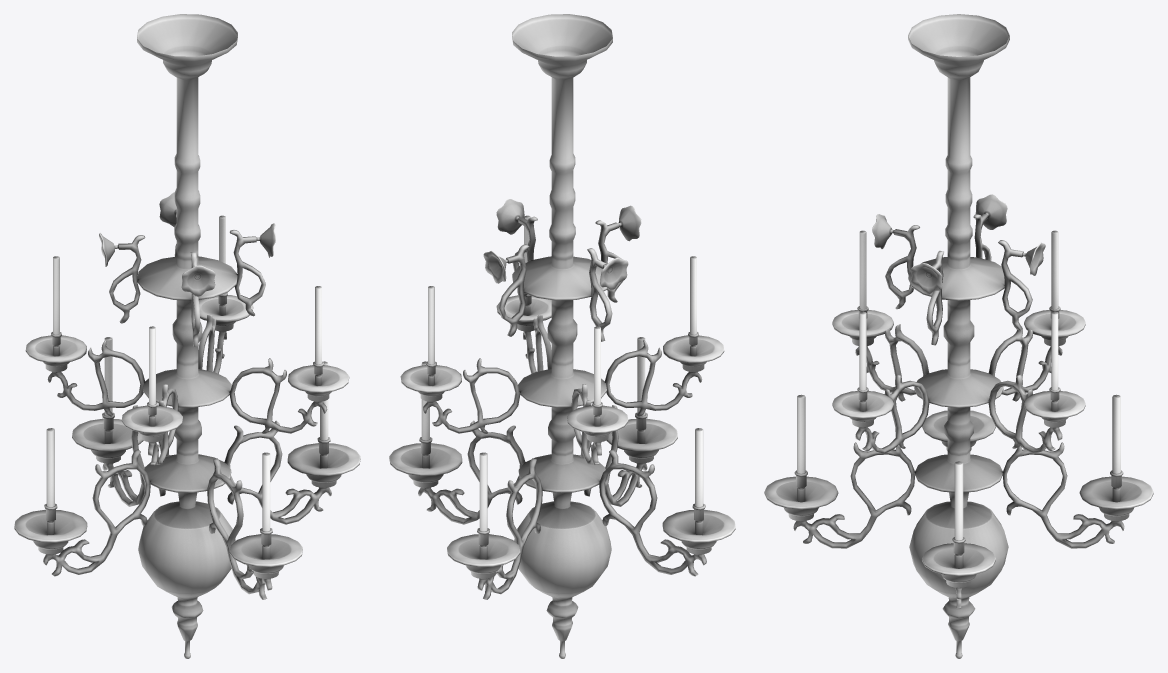
File: chandelier.fbx
3 renders of one model, left to right at view 1: azimuth 30°, elevation 25°; view 2: azimuth 150°, elevation 25°; view 3: azimuth 270°, elevation 25°, orthographic.
Visible parts, largest first — view 1: chandelier; view 2: chandelier; view 3: chandelier.
Part boxes in pixels (x1,y1,x2,y2): chandelier: (14,14,360,658); chandelier: (389,14,735,658); chandelier: (764,14,1153,658).
Bounding box in the file's own units: 112 × 199 × 112.
